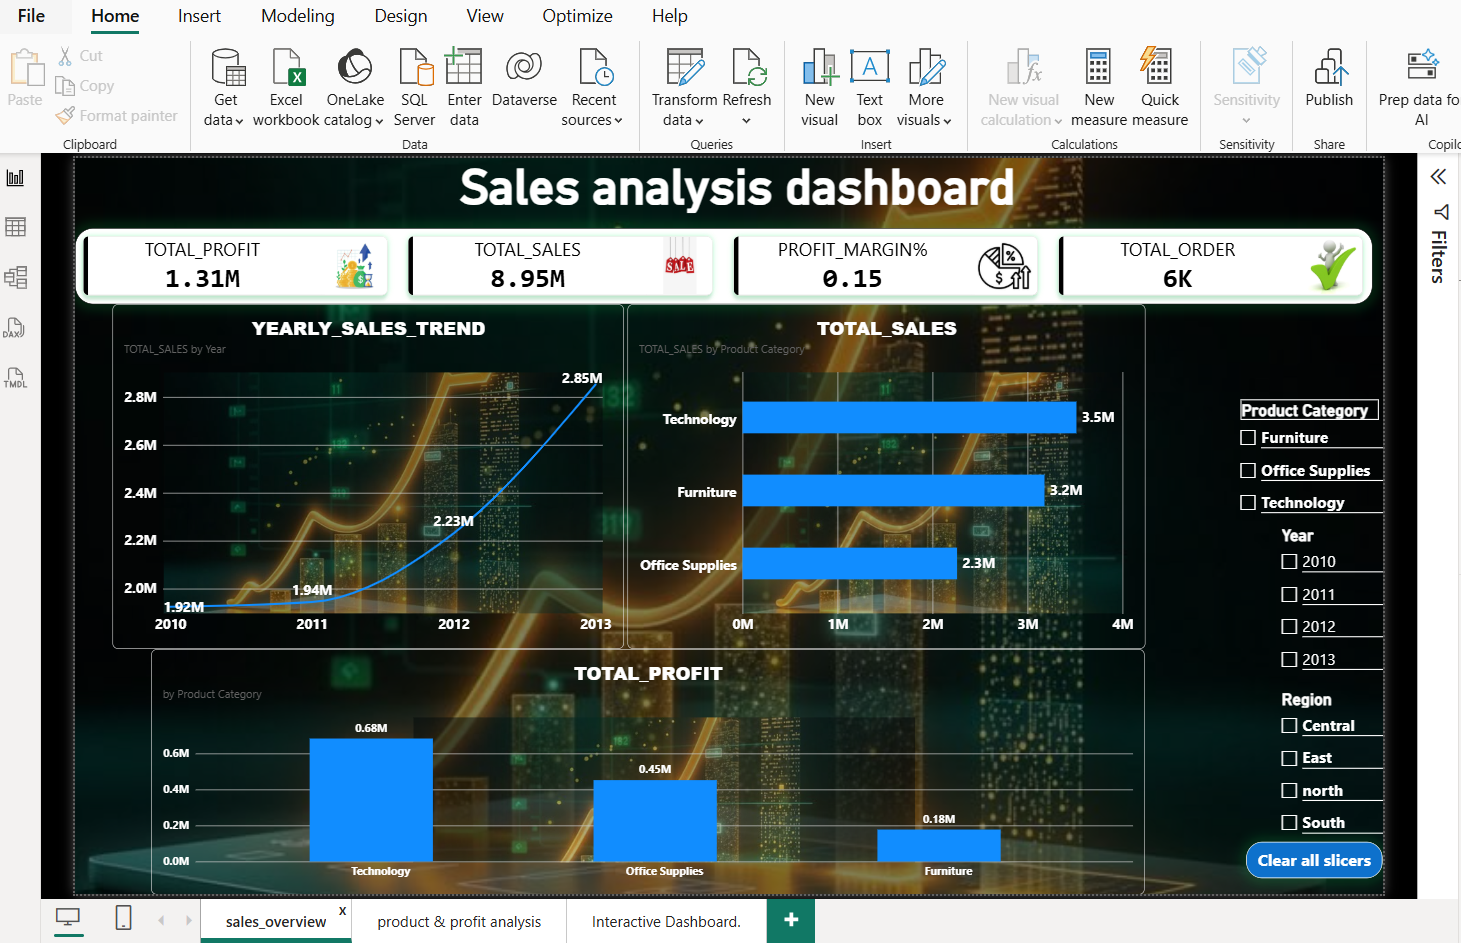

What the dashboard file says about the page in this screenshot:
{"tool":"powerbi","page":{"name":"sales_overview","canvas":[1920,1080],"ordinal":0},"visuals":[{"type":"cardVisual","fields":{"Data":["Orders.TOTAL_PROFIT","Orders.TOTAL_SALES","Orders.PROFIT_MARGIN%","Orders.TOTAL_ORDER"]},"box":[0,102.7,1904,111.9],"z":0},{"type":"lineChart","title":"YEARLY_SALES_TREND","fields":{"Category":["Orders.Order Date.Variation.Date Hierarchy.Year","Orders.Order Date.Variation.Date Hierarchy.Month"],"Y":["Orders.TOTAL_SALES"]},"box":[55,214.6,750,505.8],"z":1},{"type":"clusteredBarChart","title":"TOTAL_SALES ","fields":{"Category":["Orders.Product Category"],"Y":["Orders.TOTAL_SALES"]},"box":[810.7,214.6,759.6,505.8],"z":2},{"type":"slicer","fields":{"Values":["Orders.Order Date.Variation.Date Hierarchy.Year"]},"box":[1762.7,539.3,157.7,271.2],"z":3},{"type":"slicer","fields":{"Values":["Orders.Product Category"]},"box":[1702.2,354,219.2,267.3],"z":4},{"type":"slicer","fields":{"Values":["Orders.Region"]},"box":[1762.7,779.6,157.7,276.9],"z":5},{"type":"clusteredColumnChart","fields":{"Category":["Orders.Product Category"],"Y":["Orders.TOTAL_PROFIT"]},"box":[111.5,721.2,1457.7,359.6],"z":6},{"type":"actionButton","box":[1719.2,1003.8,200,53.8],"z":7},{"type":"textbox","title":"Sales analysis dashboard","box":[355.8,0,1232.6,80.7],"z":8}]}

Visuals, with their boxes on the page's 1920x1080 design canvas (x1, y1, x2, y2). These are canvas units, not pixel positions in the 1461x943 screenshot, which may show the page scaled, cropped or inside an application window:
cardVisual - Orders.TOTAL_PROFIT x Orders.TOTAL_SALES: pyautogui.locateOnScreen(0, 103, 1904, 215)
"YEARLY_SALES_TREND" lineChart: pyautogui.locateOnScreen(55, 215, 805, 720)
"TOTAL_SALES " clusteredBarChart: pyautogui.locateOnScreen(811, 215, 1570, 720)
slicer - Orders.Order Date.Variation.Date Hierarchy.Year: pyautogui.locateOnScreen(1763, 539, 1920, 810)
slicer - Orders.Product Category: pyautogui.locateOnScreen(1702, 354, 1921, 621)
slicer - Orders.Region: pyautogui.locateOnScreen(1763, 780, 1920, 1056)
clusteredColumnChart - Orders.Product Category x Orders.TOTAL_PROFIT: pyautogui.locateOnScreen(112, 721, 1569, 1081)
actionButton: pyautogui.locateOnScreen(1719, 1004, 1919, 1058)
"Sales analysis dashboard" textbox: pyautogui.locateOnScreen(356, 0, 1588, 81)
